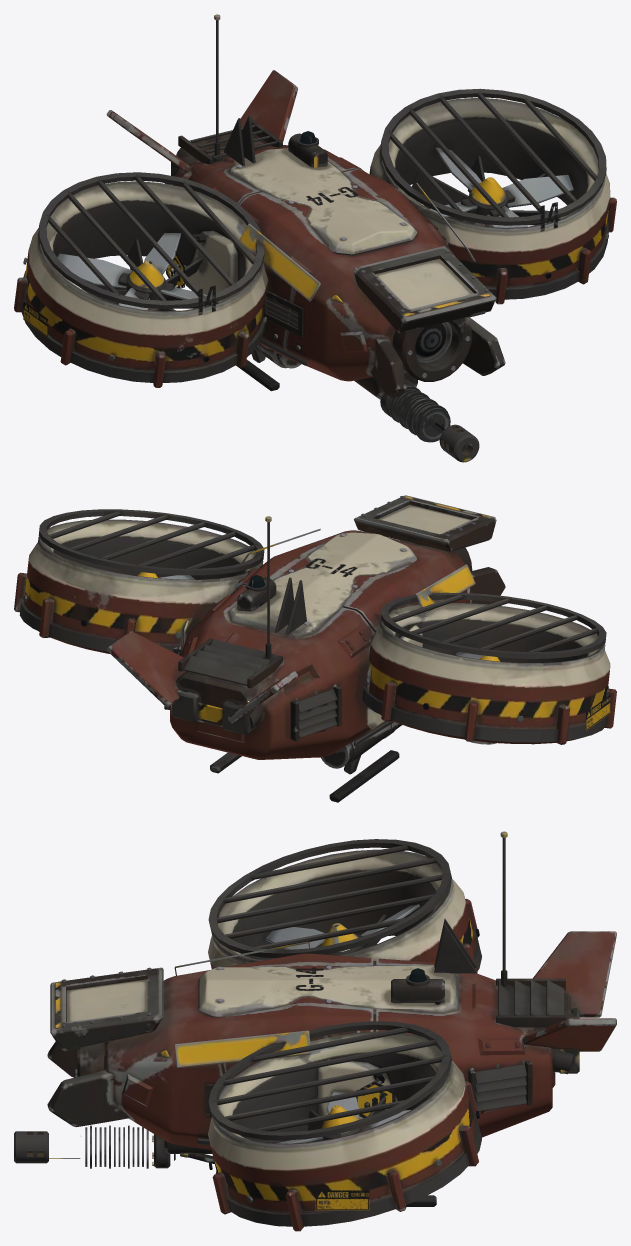
Rendered from enemy_drone.glb.
3 views of the same model, one above another, from view 1: azimuth 30°, elevation 25°; view 2: azimuth 150°, elevation 25°; view 3: azimuth 270°, elevation 25° (orthographic). The views are drawn at different scales.
Parts seen in each view (by area): view 1: body_geo, fanblades_1_geo, fanblades_0_geo, body_decals, rotor_geo, rotor_1_geo, eye_geo; view 2: body_geo, body_decals; view 3: body_geo, body_decals, fanblades_1_geo, fanblades_0_geo.
Part boxes in pixels (bbox=[...]): body_geo: bbox=[14, 14, 616, 462]; fanblades_1_geo: bbox=[57, 233, 212, 310]; fanblades_0_geo: bbox=[429, 147, 573, 227]; body_decals: bbox=[23, 187, 560, 337]; rotor_geo: bbox=[468, 177, 507, 215]; rotor_1_geo: bbox=[126, 260, 165, 299]; eye_geo: bbox=[415, 322, 446, 357]; body_geo: bbox=[14, 495, 616, 802]; body_decals: bbox=[306, 558, 610, 730]; body_geo: bbox=[14, 831, 616, 1231]; body_decals: bbox=[296, 967, 395, 1210]; fanblades_1_geo: bbox=[265, 904, 420, 950]; fanblades_0_geo: bbox=[277, 1091, 410, 1143].
Bounding box in the file's own units: 2.63 × 1.34 × 2.24.
Materials: 3 (3 with a texture image).
